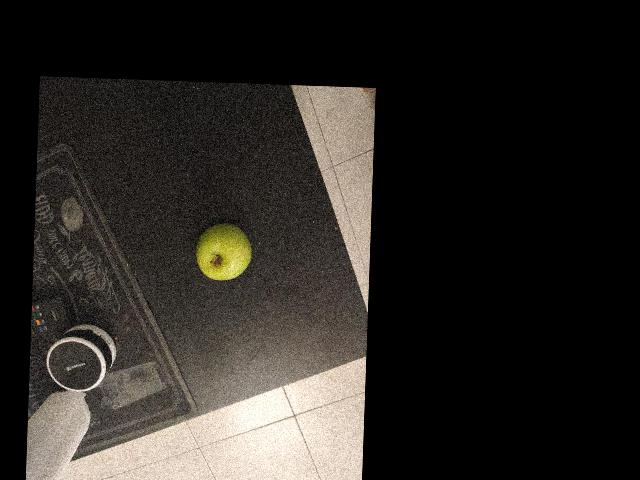apple: (264, 352, 365, 424)
